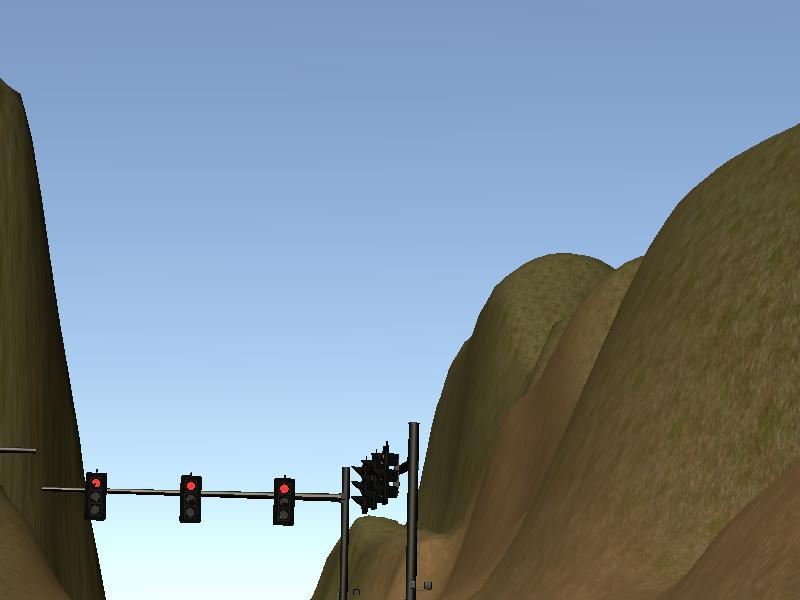Red: (87, 472, 107, 519), (274, 480, 293, 524), (183, 475, 200, 523)
